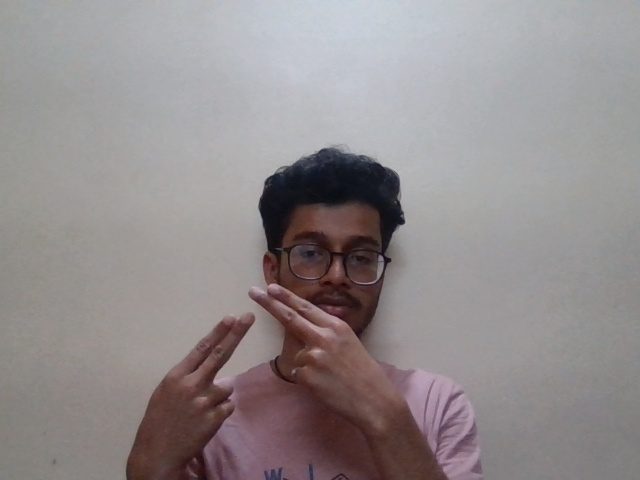my-name-is: (136, 269, 379, 445)
